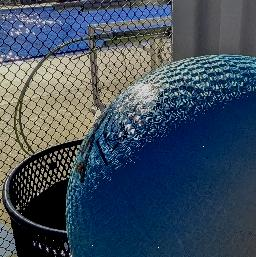algae: (66, 56, 256, 257)
